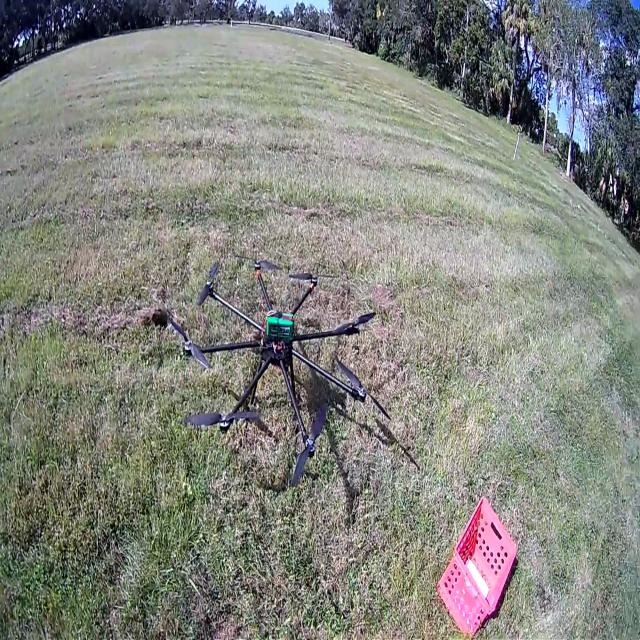drone: (145, 182, 399, 510)
